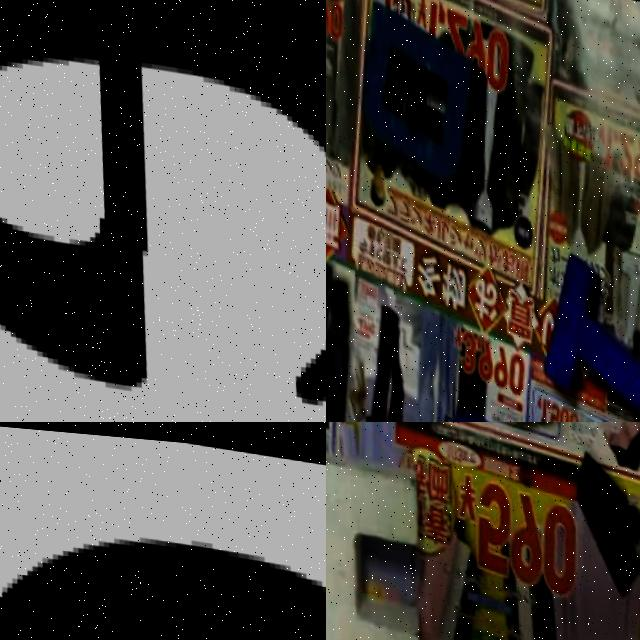D: (345, 0, 487, 189)
H: (326, 442, 429, 640)
O: (0, 492, 326, 640)
T: (526, 246, 640, 422)
